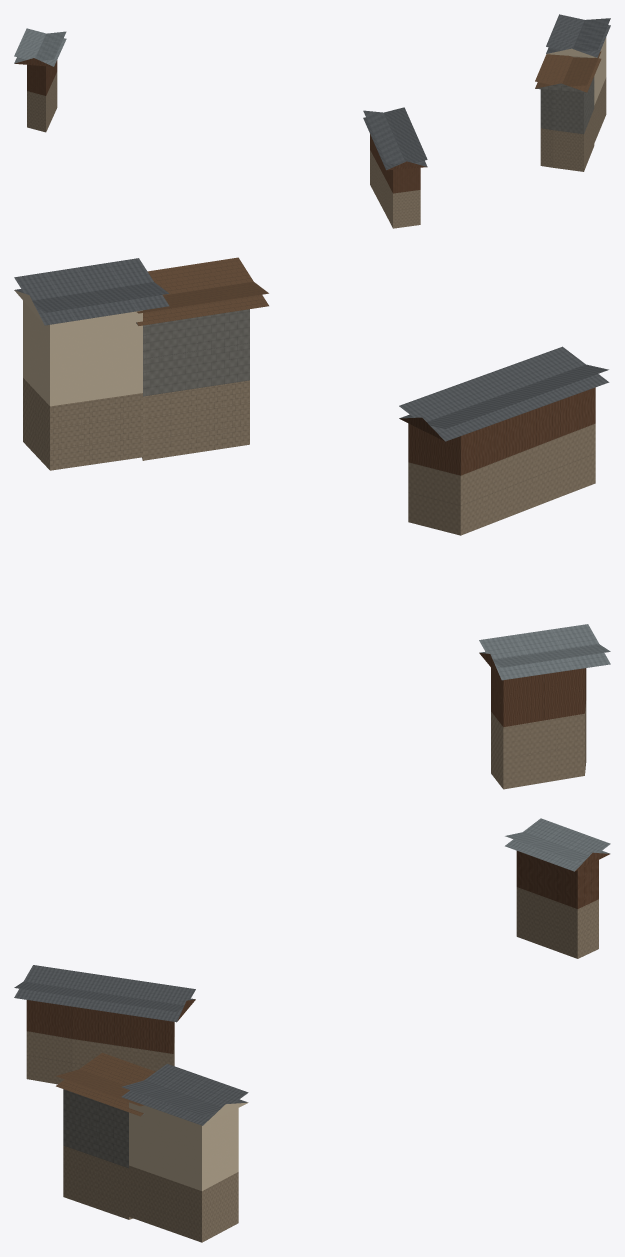
The model's file is bld_c40_33_292.gltf.
3 renders of one model, top to bottom at view 1: azimuth 30°, elevation 25°; view 2: azimuth 150°, elevation 25°; view 3: azimuth 270°, elevation 25°, orthographic. The views are drawn at different scales.
Parts seen in each view (by area): view 1: bld_c40_33_292; view 2: bld_c40_33_292; view 3: bld_c40_33_292.
Part boxes in pixels (box(x1,y1,x2,y2)): bld_c40_33_292: box(14, 14, 610, 228); bld_c40_33_292: box(14, 257, 610, 789); bld_c40_33_292: box(14, 818, 610, 1242).
Size of the model in its own units: 67.09 by 13.2 by 53.6.
10 materials, 10 textured.
